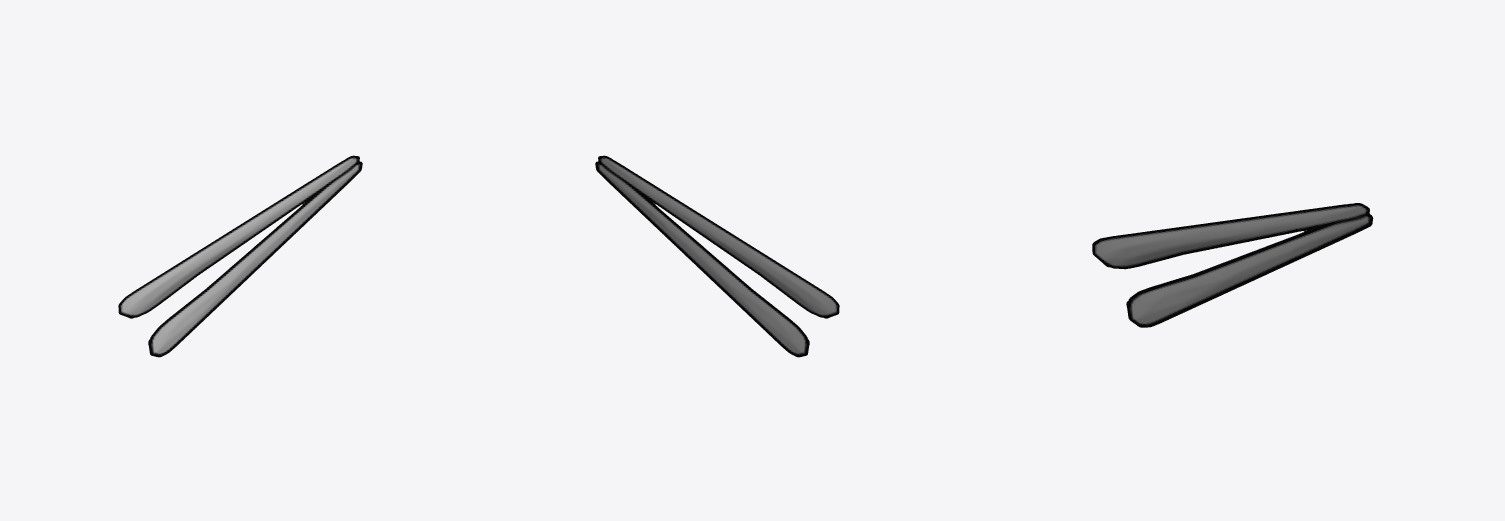
The model's file is chopstic.FBX.
The picture shows the model from 3 angles, left to right: view 1: azimuth 30°, elevation 25°; view 2: azimuth 150°, elevation 25°; view 3: azimuth 330°, elevation 25°; orthographic projection. The views are drawn at different scales.
Parts seen in each view (by area): view 1: Plane005; view 2: Plane005; view 3: Plane005.
Boxes of the visible parts, box(x1,y1,x2,y2) form: Plane005: box(118, 155, 362, 357); Plane005: box(595, 155, 839, 357); Plane005: box(1092, 203, 1373, 327).
Size of the model in its own units: 33.54 by 28.31 by 2.39e-06.
Materials: 1 (1 with a texture image).
